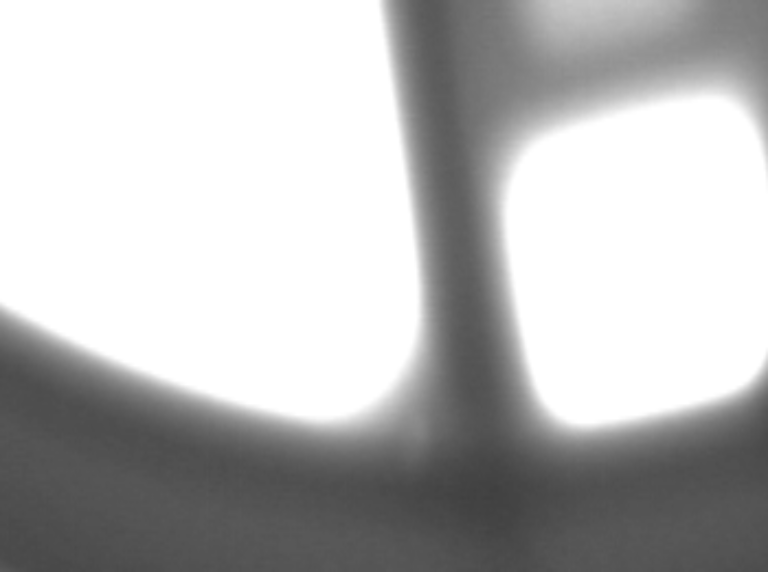defect: (406, 420, 439, 474)
